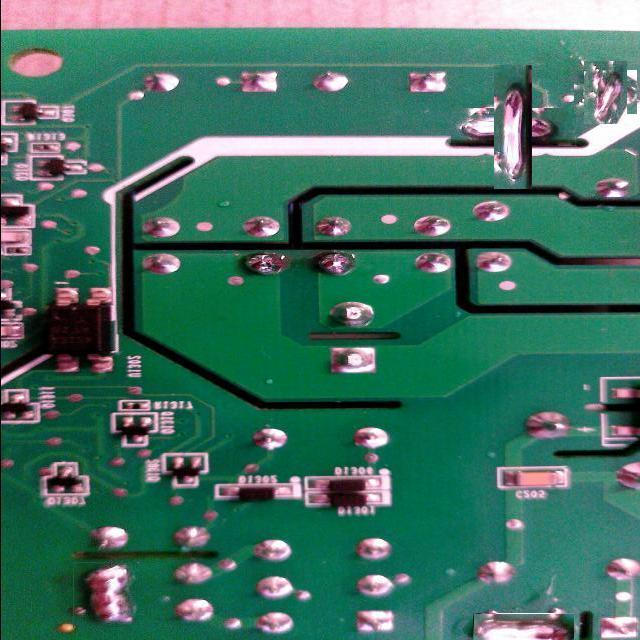Short_circuit: (473, 86, 554, 168), (73, 562, 139, 628), (579, 66, 632, 119), (473, 613, 574, 640)
